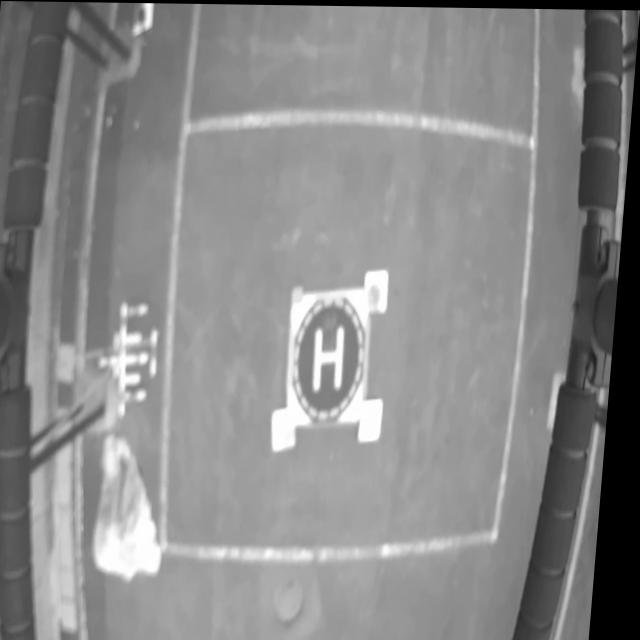Helipad: (318, 325, 350, 388)
